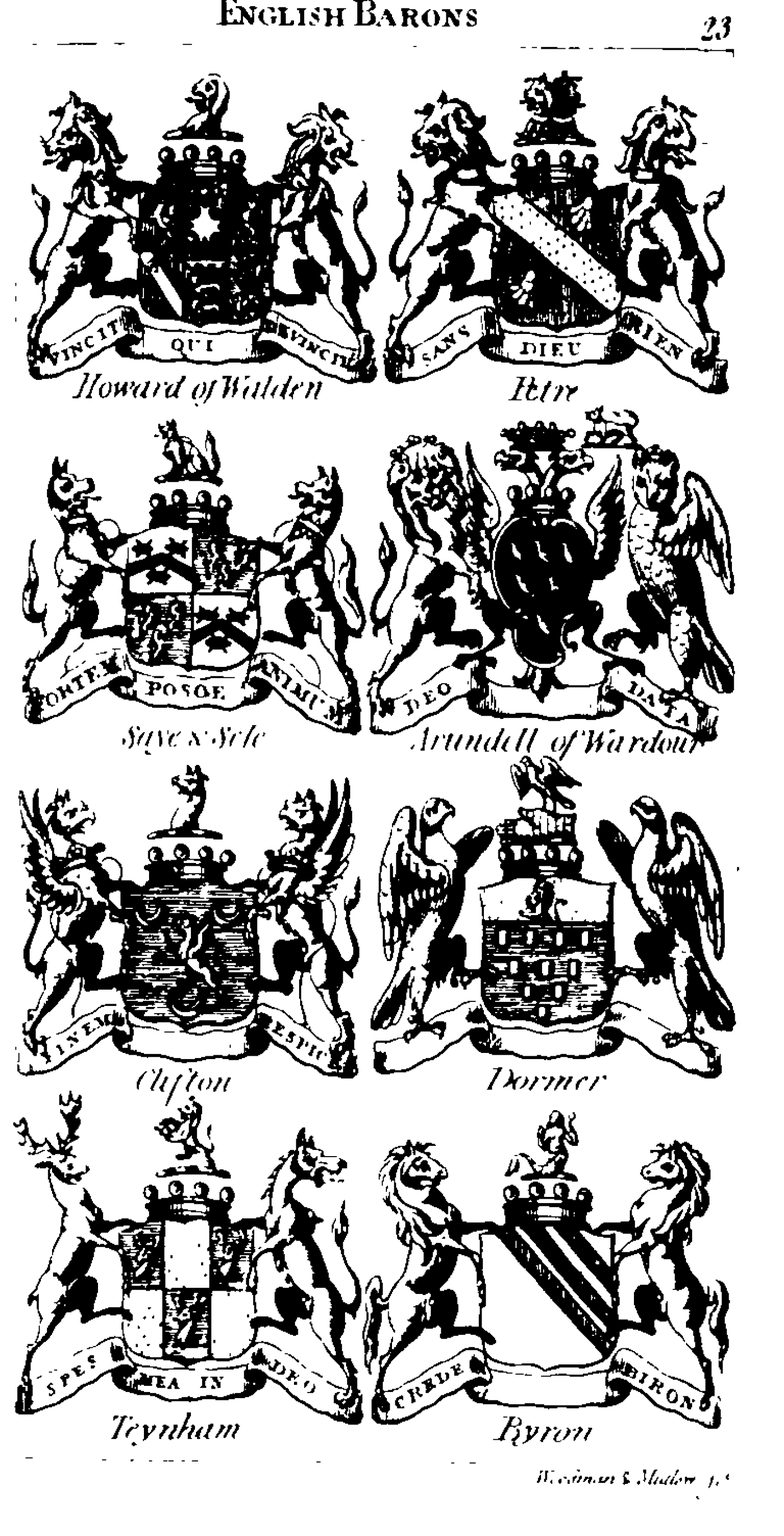coat_of_arms: (15, 50, 380, 424), (370, 401, 741, 763), (360, 1099, 739, 1450), (373, 56, 745, 409), (367, 760, 740, 1101), (8, 763, 375, 1105), (10, 1094, 365, 1443), (24, 419, 367, 764)
